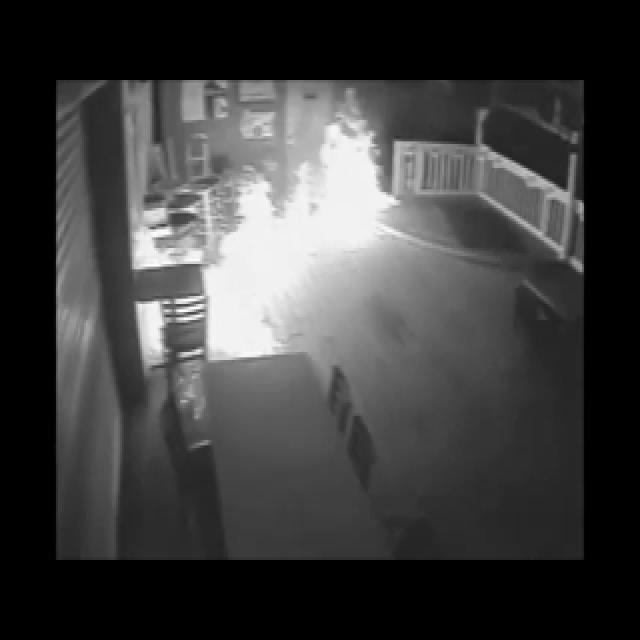arson: (112, 63, 427, 355)
